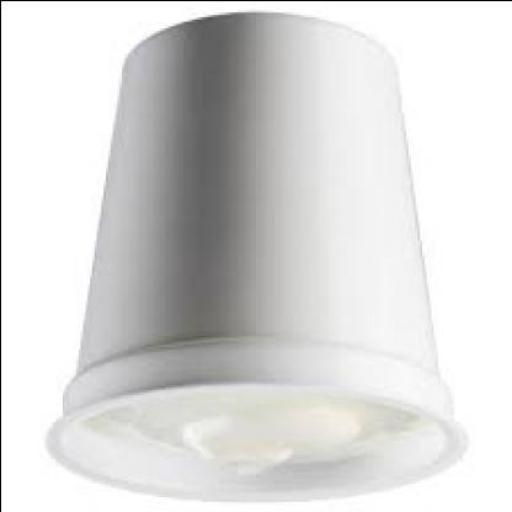plastic: (43, 16, 464, 501)
